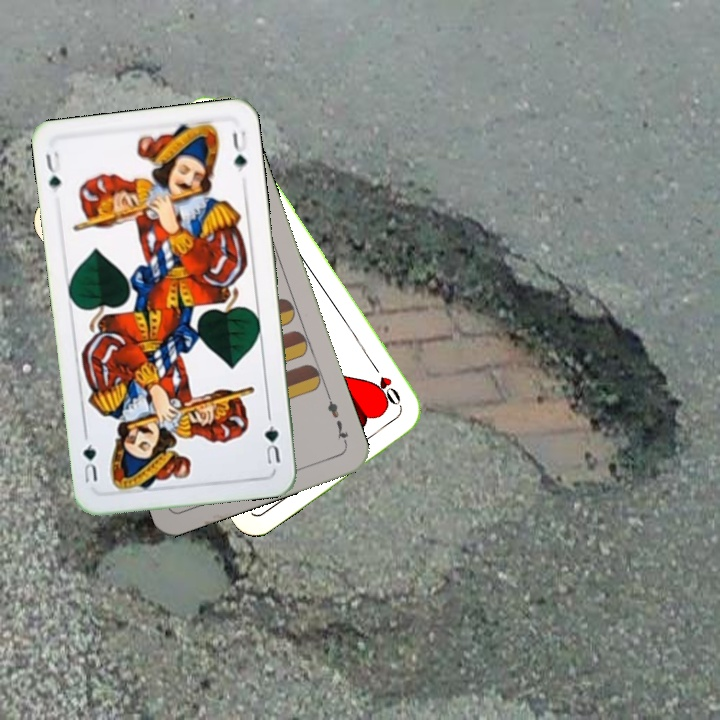E7: (323, 391, 351, 448)
GU: (260, 411, 283, 467), (41, 147, 64, 195)
HO: (367, 358, 405, 411)
